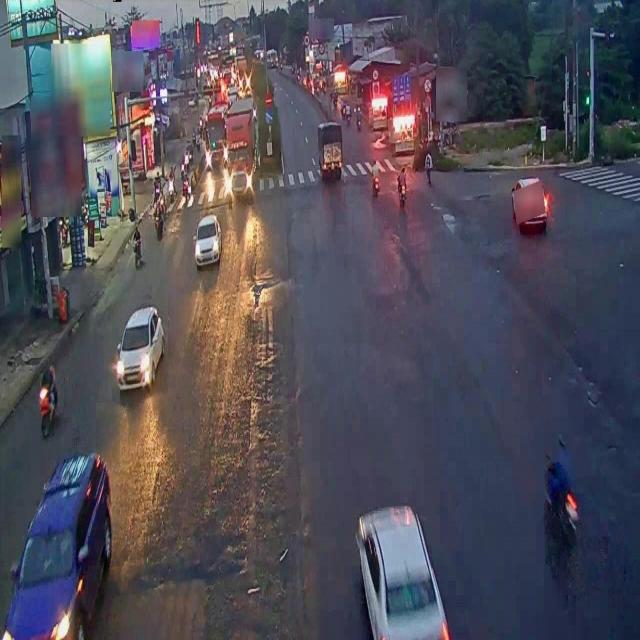car: (0, 451, 107, 640), (354, 495, 450, 639), (117, 310, 163, 390), (510, 175, 548, 233), (194, 212, 218, 262)
motorcycle: (543, 435, 577, 537), (36, 356, 58, 440)
truck: (316, 116, 346, 185)
